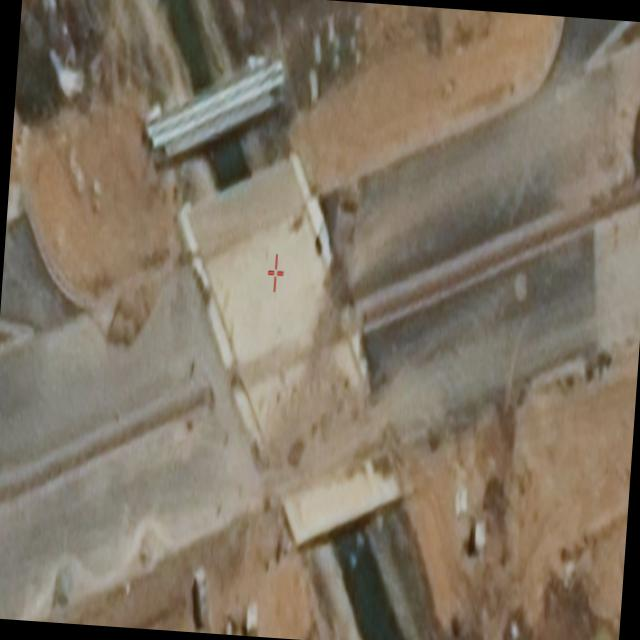crack: (89, 281, 168, 347), (46, 574, 85, 608), (287, 427, 308, 470), (131, 544, 157, 566)
old_road: (0, 253, 269, 616)
road: (321, 24, 640, 469)
water: (332, 521, 412, 640), (151, 0, 218, 98), (201, 130, 250, 189)
